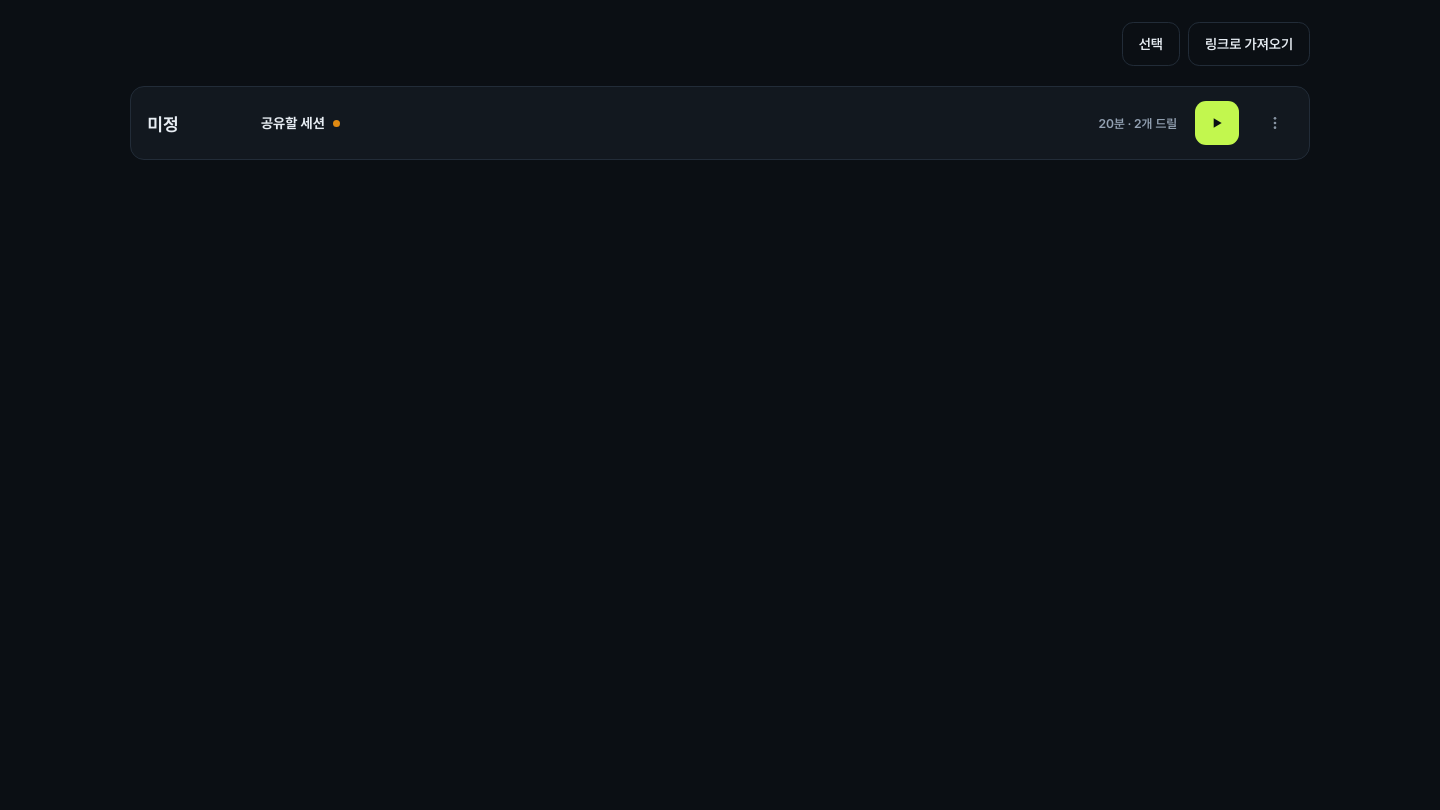
Test: SessionsScreen — 링크로 공유(S4) › 케밥 [링크로 공유]가 세션과 편성된 드릴 본문을 함께 넘긴다
Check: the text "공유할 세션" is shown, box x1=261 y1=115 x2=325 y2=131
Click the button named "공유할 세션 더보기". click: click(1275, 123)
box: x1=1257 y1=101 x2=1293 y2=145
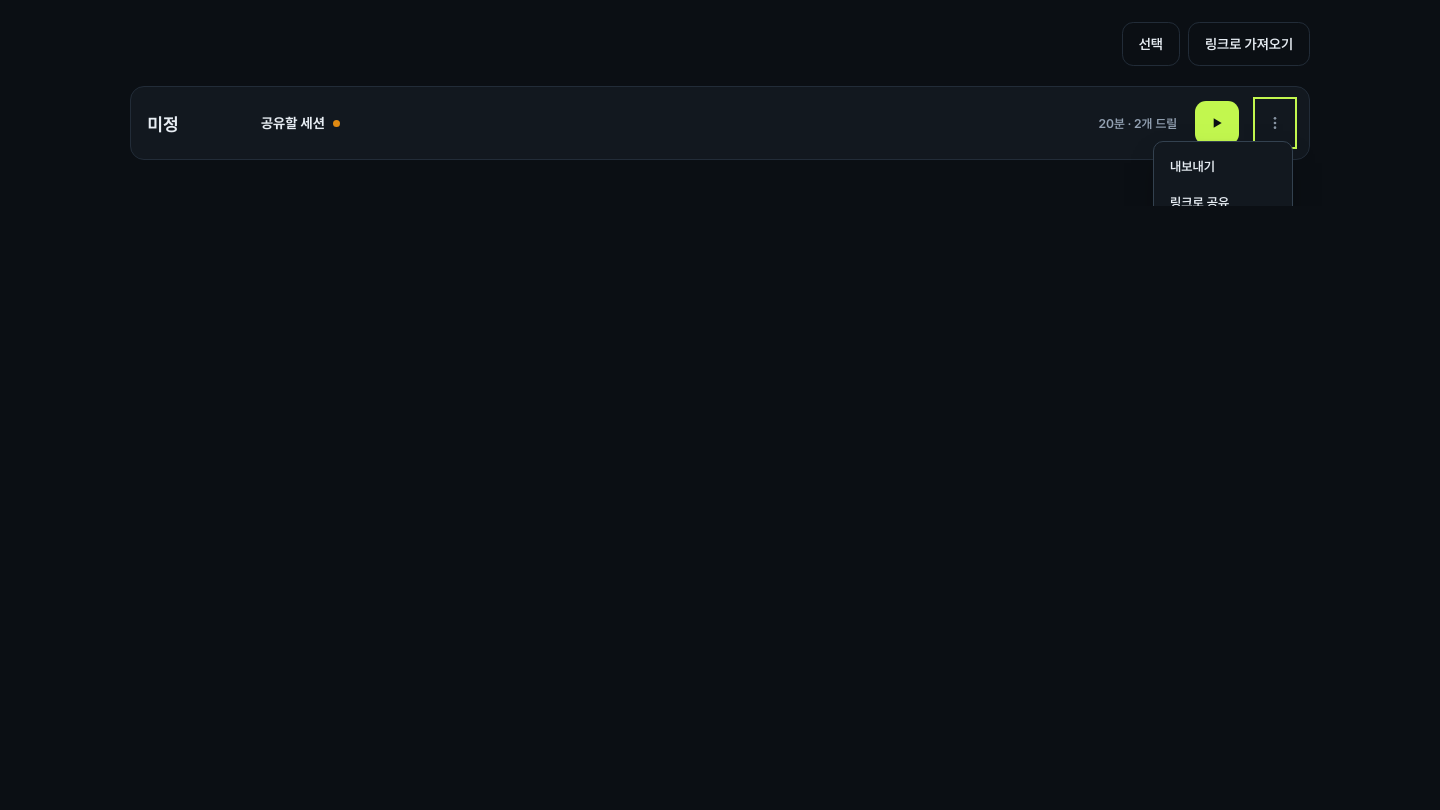
Click the menu item "링크로 공유". click: click(1223, 202)
box: x1=1160 y1=184 x2=1286 y2=220
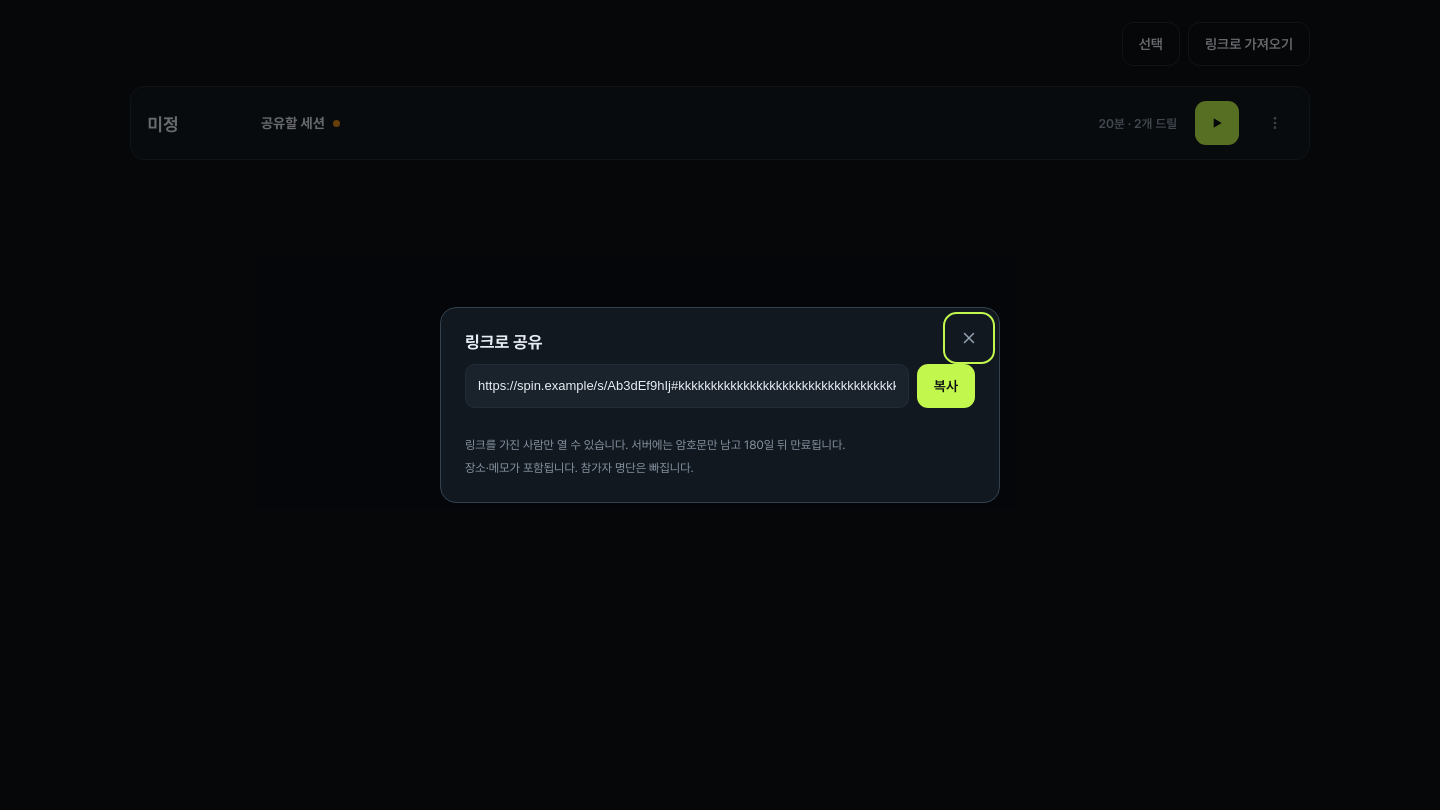
Check: the field named "공유 링크" is shown, box x1=465 y1=364 x2=909 y2=408
